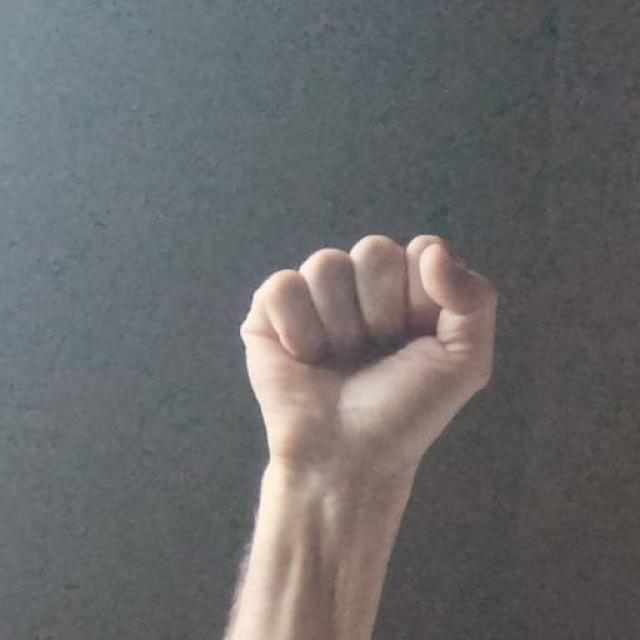hand: (213, 232, 502, 466)
